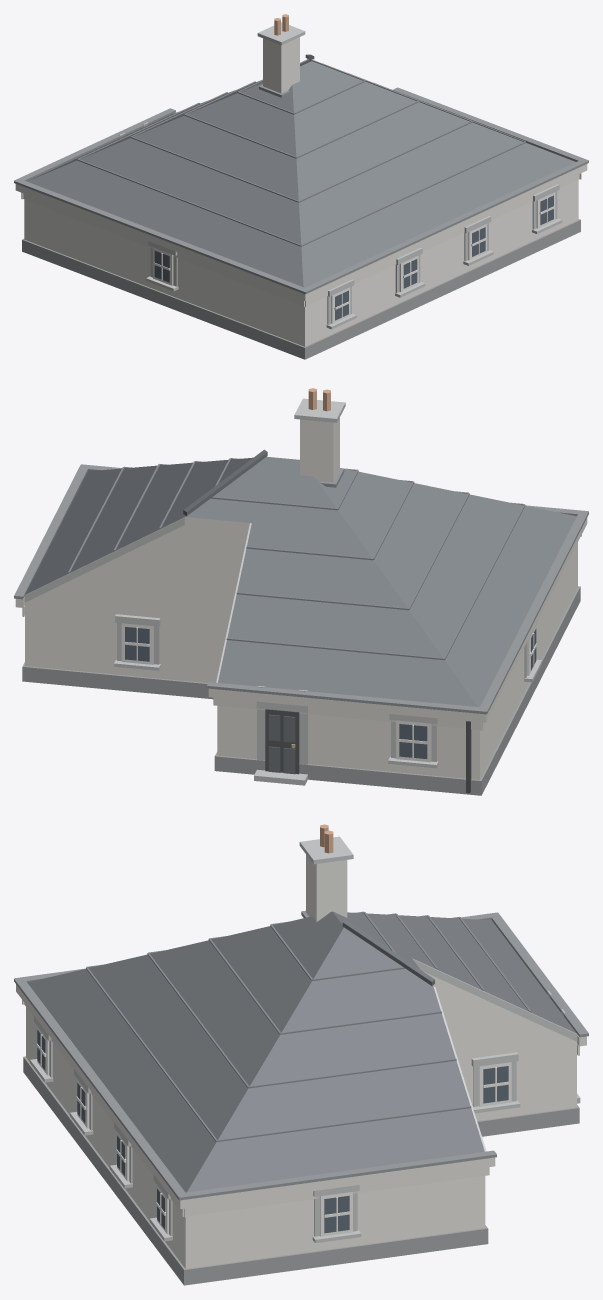
3 views of the same model, one above another, from view 1: azimuth 30°, elevation 25°; view 2: azimuth 150°, elevation 25°; view 3: azimuth 270°, elevation 25° (orthographic). The views are drawn at different scales.
Visible parts, largest first — view 1: slate, harl, plinth, string, lead, slate_lt, stone_band, frame, chim_render; view 2: slate, harl, plinth, stone_band, lead, string, slate_lt, chim_render, frame, door_dark_p, door_dark, window_glass_001 (+2 smaller); view 3: slate, harl, plinth, lead, stone_band, string, slate_lt, frame, chim_render, slate_dk, window_glass_007, window_glass_009.
Part boxes in pixels (bbox=[...]): slate: bbox=[27, 60, 575, 287]; harl: bbox=[24, 180, 578, 346]; plinth: bbox=[22, 219, 580, 359]; string: bbox=[15, 164, 587, 306]; lead: bbox=[14, 85, 588, 294]; slate_lt: bbox=[77, 59, 525, 246]; stone_band: bbox=[119, 22, 562, 329]; frame: bbox=[153, 192, 555, 323]; chim_render: bbox=[263, 37, 299, 93]; slate: bbox=[25, 456, 576, 706]; harl: bbox=[25, 517, 577, 779]; plinth: bbox=[22, 586, 580, 795]; stone_band: bbox=[24, 398, 542, 785]; lead: bbox=[14, 464, 588, 714]; string: bbox=[15, 518, 587, 730]; slate_lt: bbox=[68, 458, 525, 659]; chim_render: bbox=[300, 417, 339, 482]; frame: bbox=[121, 623, 536, 762]; door_dark_p: bbox=[268, 714, 295, 774]; door_dark: bbox=[265, 709, 299, 774]; window_glass_001: bbox=[399, 724, 427, 758]; slate: bbox=[27, 911, 576, 1192]; harl: bbox=[26, 971, 576, 1268]; plinth: bbox=[23, 1056, 579, 1285]; lead: bbox=[14, 910, 588, 1200]; stone_band: bbox=[30, 836, 580, 1243]; string: bbox=[16, 984, 586, 1217]; slate_lt: bbox=[86, 911, 531, 1141]; frame: bbox=[36, 1026, 511, 1236]; chim_render: bbox=[306, 854, 347, 921]; slate_dk: bbox=[342, 920, 434, 985]; window_glass_007: bbox=[324, 1195, 349, 1233]; window_glass_009: bbox=[483, 1066, 508, 1103].
Size of the model in its own units: 17.87 by 8.82 by 15.22.
